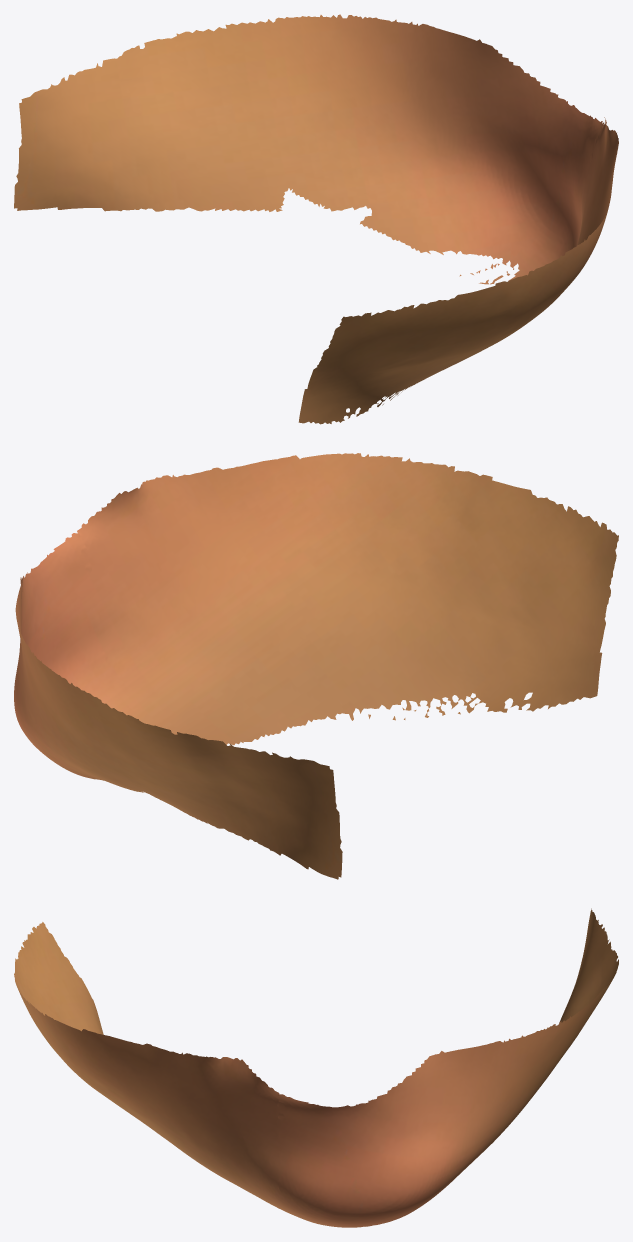
Rendered from COLLIDER_JAW.glb.
3 renders of one model, top to bottom at view 1: azimuth 30°, elevation 25°; view 2: azimuth 150°, elevation 25°; view 3: azimuth 270°, elevation 25°, orthographic. The views are drawn at different scales.
Parts seen in each view (by area): view 1: tripo_node_9bab15ef-14f4-426d-8081-19d1b5f2643f; view 2: tripo_node_9bab15ef-14f4-426d-8081-19d1b5f2643f; view 3: tripo_node_9bab15ef-14f4-426d-8081-19d1b5f2643f.
Boxes of the visible parts, x1,y1,x2,y2 form: tripo_node_9bab15ef-14f4-426d-8081-19d1b5f2643f: (14,14,618,424); tripo_node_9bab15ef-14f4-426d-8081-19d1b5f2643f: (14,453,618,879); tripo_node_9bab15ef-14f4-426d-8081-19d1b5f2643f: (14,908,618,1227).
Bounding box in the file's own units: 0.292 × 0.1343 × 0.3885.
1 material, 1 textured.
